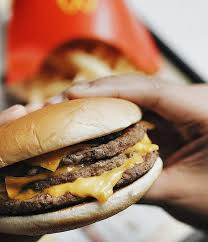hamburger: (1, 95, 165, 237)
